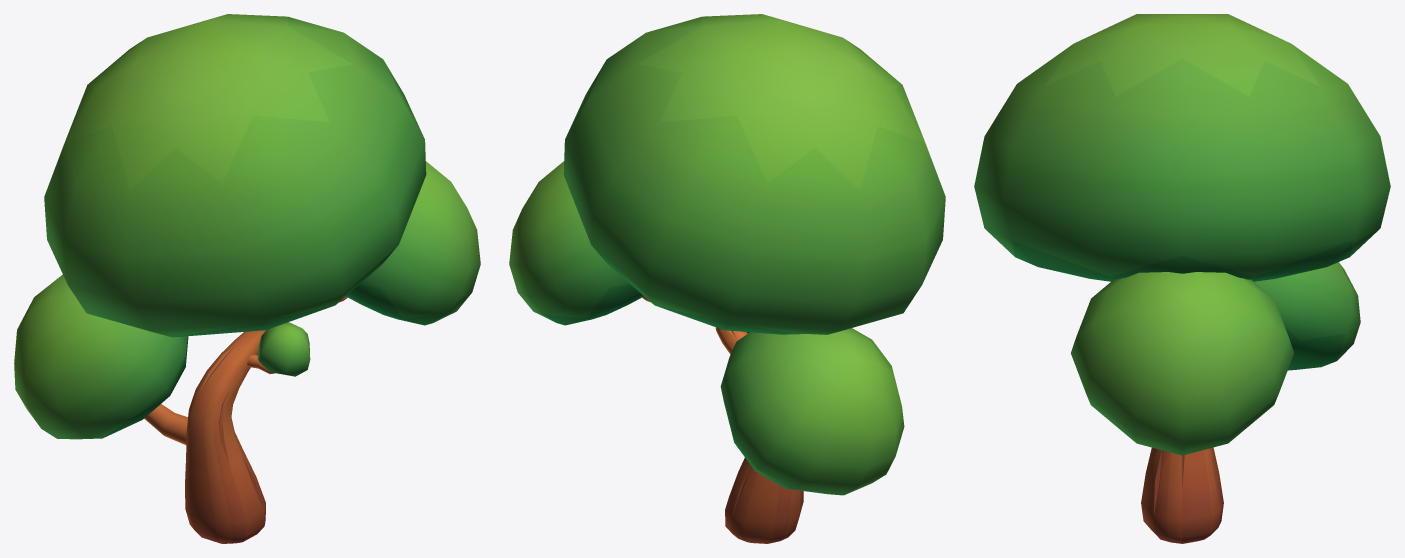
The model's file is forest_tree_1.glb.
3 renders of one model, left to right at view 1: azimuth 30°, elevation 25°; view 2: azimuth 150°, elevation 25°; view 3: azimuth 270°, elevation 25°, orthographic. The views are drawn at different scales.
Visible parts, largest first — view 1: Tree_1_C_Color1; view 2: Tree_1_C_Color1; view 3: Tree_1_C_Color1.
Part boxes in pixels (box(x1,y1,x2,y2)): Tree_1_C_Color1: box(14, 14, 480, 543); Tree_1_C_Color1: box(509, 14, 945, 543); Tree_1_C_Color1: box(974, 14, 1390, 543).
Size of the model in its own units: 6.69 by 7.81 by 5.75.
1 material, 1 textured.
